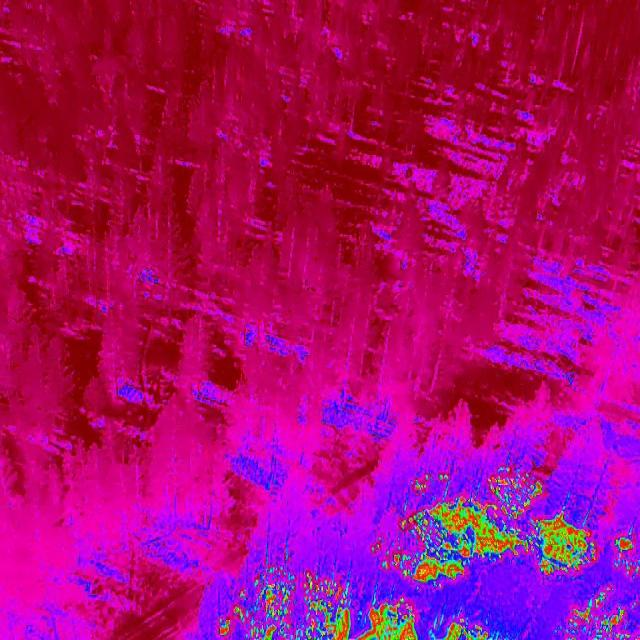fire: (368, 462, 602, 587), (217, 562, 355, 640), (564, 580, 640, 640), (354, 595, 420, 640), (428, 612, 489, 640), (612, 532, 640, 578), (550, 624, 564, 638)
